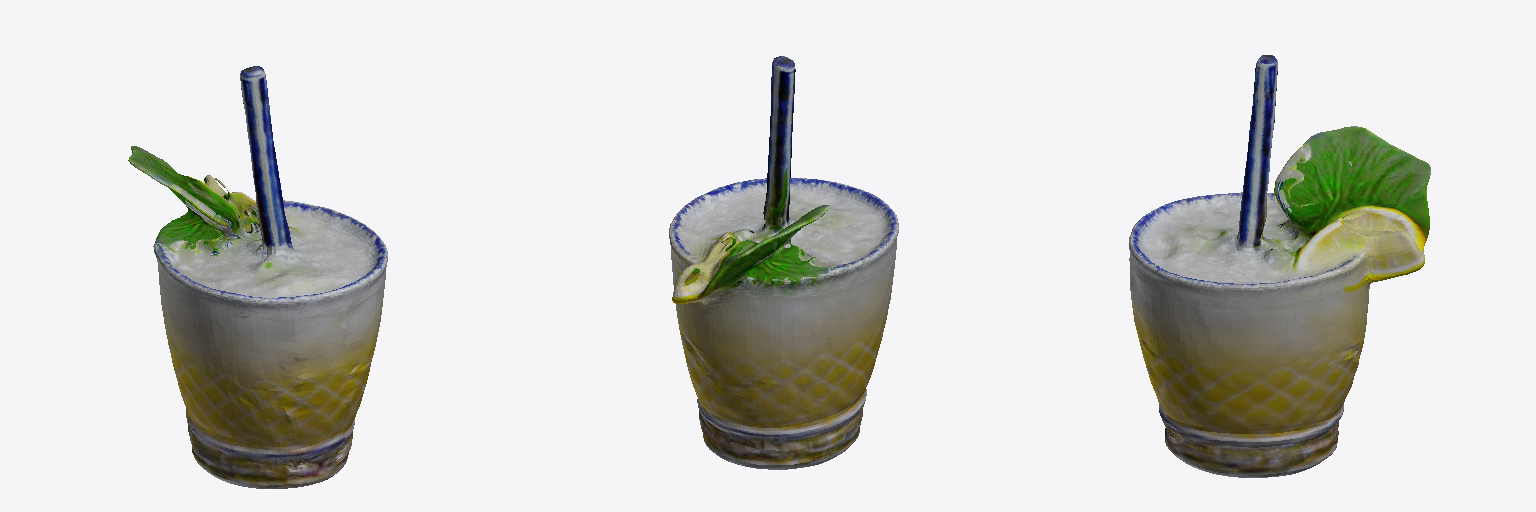
3 views of the same model, side by side, from view 1: azimuth 30°, elevation 25°; view 2: azimuth 150°, elevation 25°; view 3: azimuth 270°, elevation 25° (orthographic).
Visible parts, largest first — view 1: mesh; view 2: mesh; view 3: mesh.
Part boxes in pixels (left/top/right/bottom): mesh: left=128, top=66, right=387, bottom=488; mesh: left=669, top=56, right=898, bottom=469; mesh: left=1129, top=55, right=1430, bottom=477.
Size of the model in its own units: 0.524 by 0.9989 by 0.7047.
Materials: 1 (1 with a texture image).